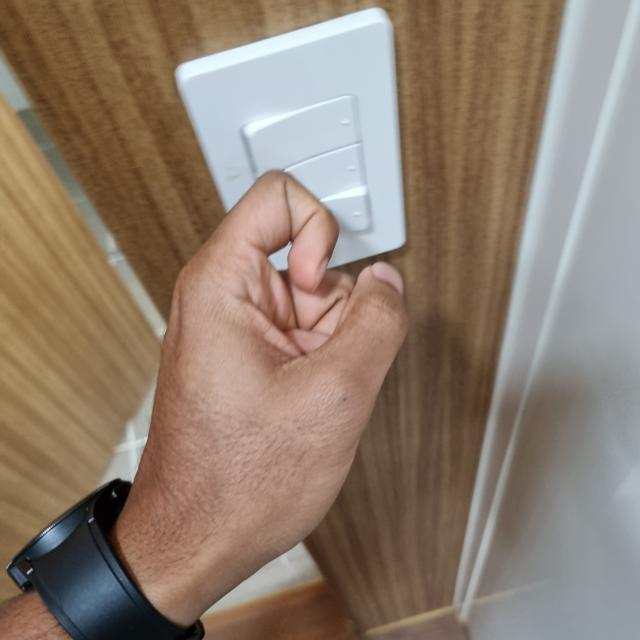Rock: (141, 170, 410, 567)
